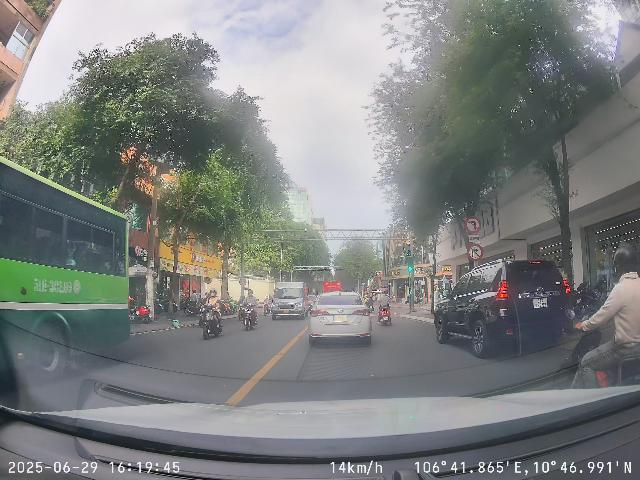123a-cam-re-trai: (465, 216, 481, 233)
123b-cam-re-phai: (467, 243, 483, 261)
